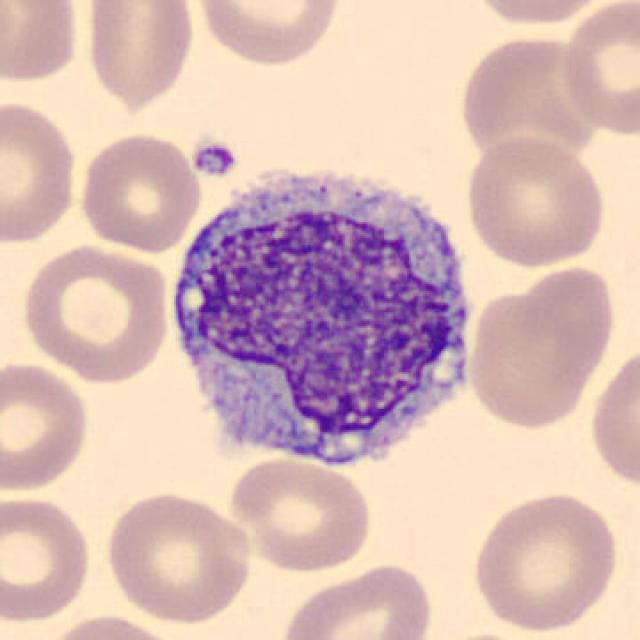Monocyte: (158, 150, 487, 479)
Platelets: (186, 136, 242, 180)
RBC: (462, 262, 615, 436), (468, 486, 624, 634), (18, 240, 174, 384), (101, 487, 256, 626), (460, 132, 610, 270), (456, 35, 590, 174), (226, 455, 375, 575), (74, 130, 204, 254), (274, 559, 439, 640), (0, 358, 94, 495), (0, 490, 94, 626), (81, 0, 197, 109), (0, 95, 82, 247), (556, 0, 638, 138), (190, 0, 345, 69), (587, 338, 638, 494), (0, 0, 84, 88), (462, 0, 622, 28), (39, 612, 187, 640), (428, 629, 542, 640)
